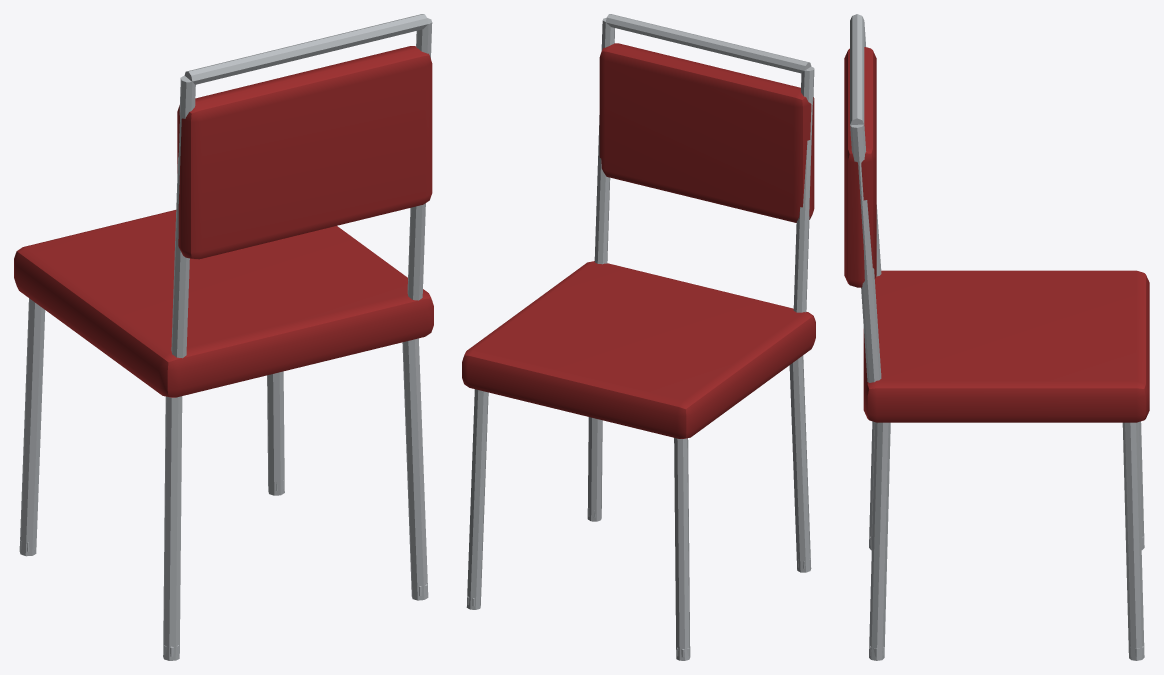
File: prop_diner_chair.glb
3 renders of one model, left to right at view 1: azimuth 30°, elevation 25°; view 2: azimuth 150°, elevation 25°; view 3: azimuth 270°, elevation 25°, orthographic. The views are drawn at different scales.
Parts seen in each view (by area): view 1: Chair; view 2: Chair; view 3: Chair.
Part boxes in pixels (bbox=[...]): Chair: bbox=[14, 14, 433, 660]; Chair: bbox=[462, 14, 815, 660]; Chair: bbox=[844, 14, 1149, 660].
Bounding box in the file's own units: 0.44 × 0.9114 × 0.47.
